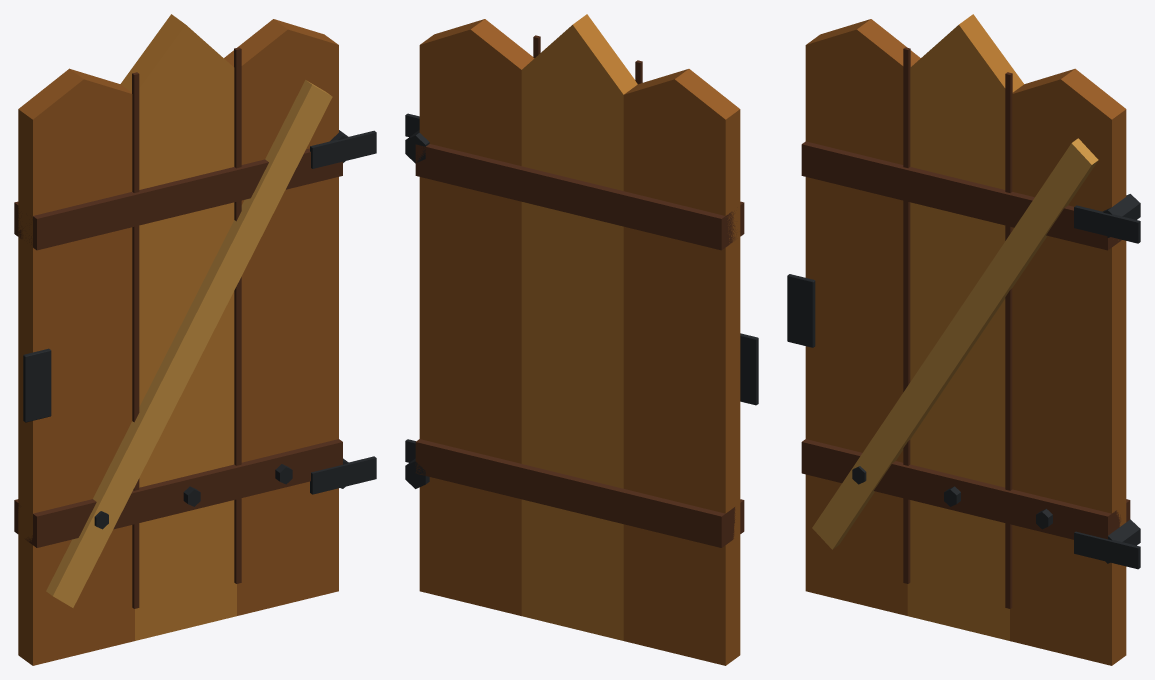
3 views of the same model, side by side, from view 1: azimuth 30°, elevation 25°; view 2: azimuth 150°, elevation 25°; view 3: azimuth 330°, elevation 25° (orthographic).
Visible parts, largest first — view 1: WK_WoodPalisade_W17_LOD0; view 2: WK_WoodPalisade_W17_LOD0; view 3: WK_WoodPalisade_W17_LOD0.
Part boxes in pixels (box(x1,y1,x2,y2)): WK_WoodPalisade_W17_LOD0: box(14, 14, 376, 665); WK_WoodPalisade_W17_LOD0: box(405, 14, 758, 665); WK_WoodPalisade_W17_LOD0: box(787, 14, 1140, 665).
Bounding box in the file's own units: 2.1 × 3.45 × 0.28.
